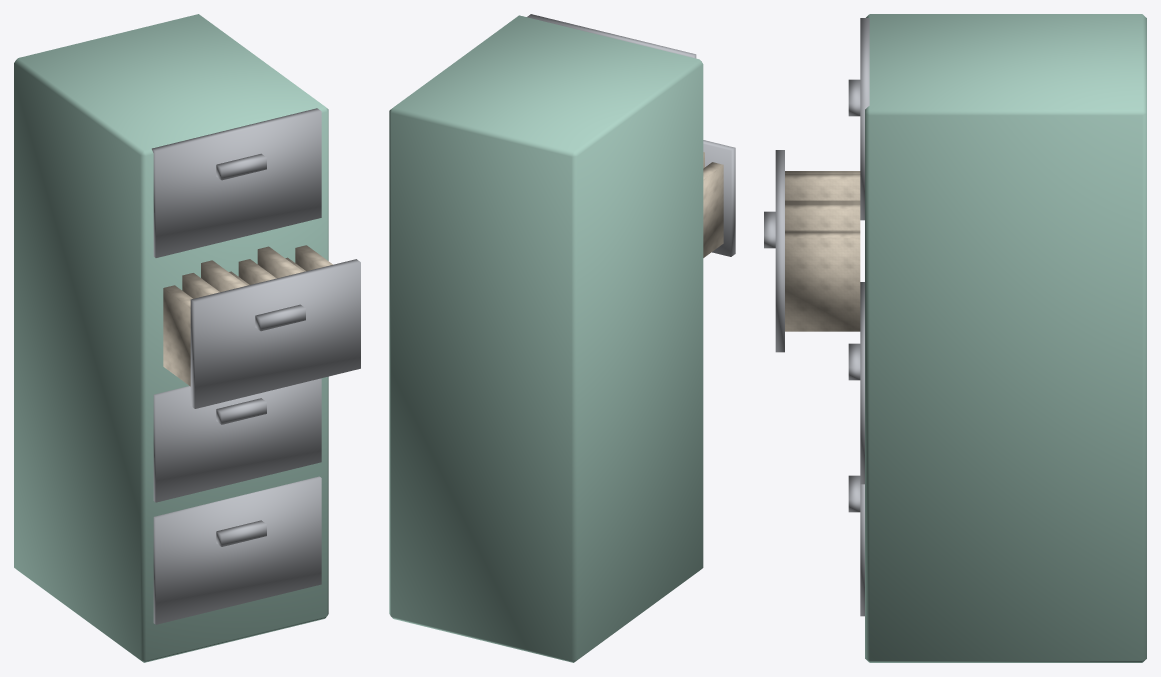
Rendered from Classeur.glb.
The picture shows the model from 3 angles, left to right: view 1: azimuth 30°, elevation 25°; view 2: azimuth 150°, elevation 25°; view 3: azimuth 270°, elevation 25°; orthographic projection. The views are drawn at different scales.
Visible parts, largest first — view 1: Caisson, Tiroirs, Dossiers; view 2: Caisson, Tiroirs, Dossiers; view 3: Caisson, Dossiers, Tiroirs.
Boxes of the visible parts, box(x1,y1,x2,y2) form: Caisson: box(14, 14, 328, 662); Tiroirs: box(152, 108, 360, 624); Dossiers: box(163, 245, 332, 386); Caisson: box(389, 15, 703, 662); Tiroirs: box(527, 14, 735, 256); Dossiers: box(703, 152, 723, 257); Caisson: box(865, 14, 1146, 662); Dossiers: box(785, 171, 860, 331); Tiroirs: box(764, 18, 869, 616).
Bounding box in the file's own units: 0.5 × 1.3 × 0.815.
3 materials, 1 textured.
